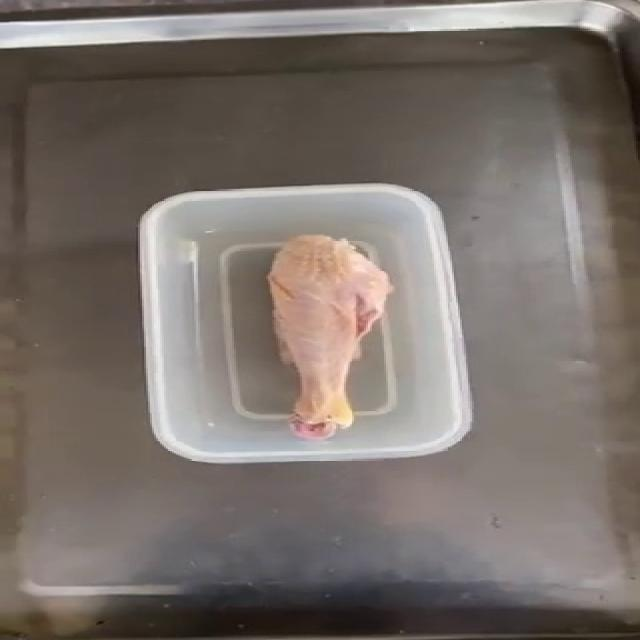chicken: (260, 231, 386, 441)
